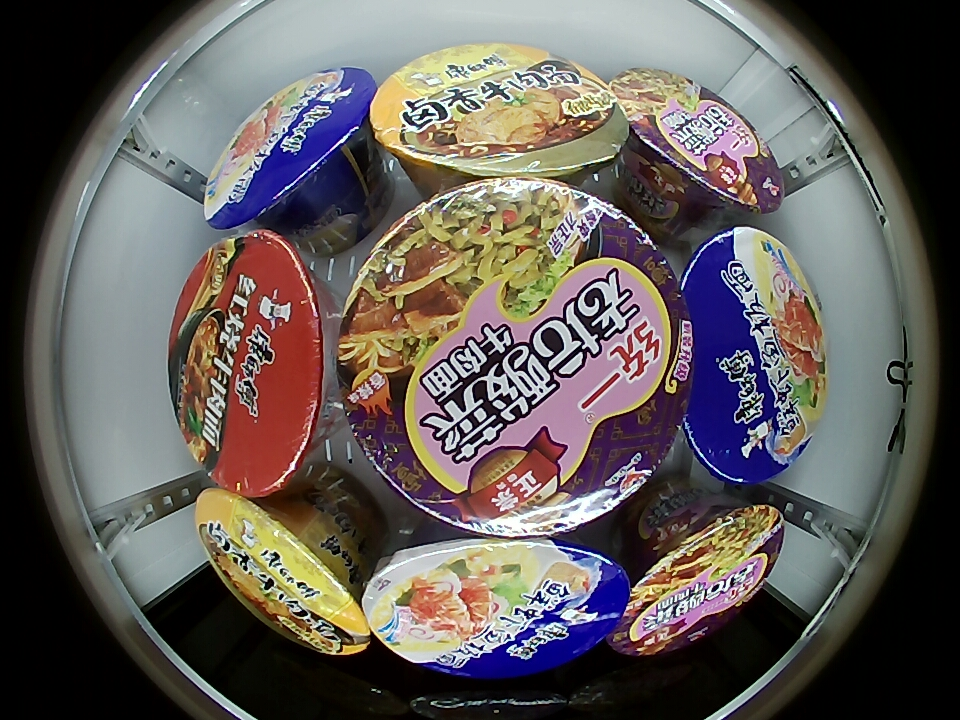hongshaoniurou: (169, 230, 330, 495)
laotansuancai: (336, 181, 687, 536), (611, 502, 785, 658), (612, 66, 786, 218)
luxiangniurou: (369, 43, 631, 182), (196, 488, 372, 656)
xianxiayuban: (677, 226, 827, 485), (361, 537, 634, 677), (202, 66, 375, 231)
